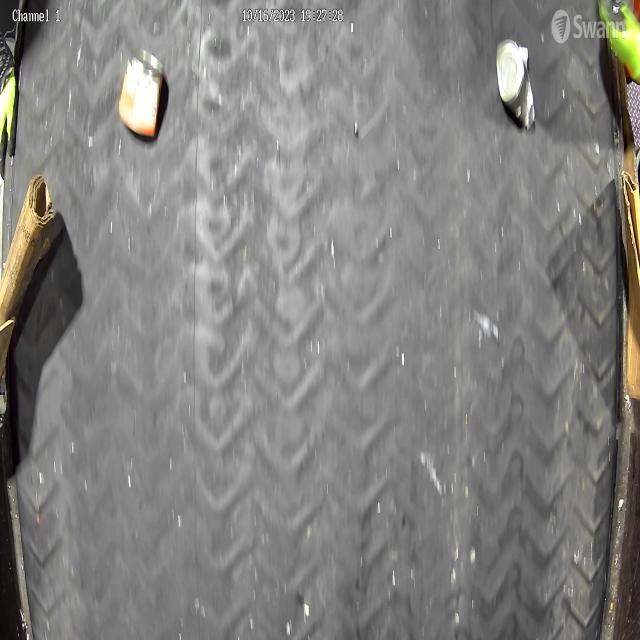can: (119, 47, 164, 141), (496, 38, 536, 132)
